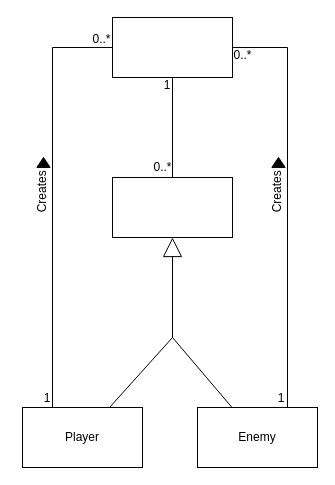
Some shapes in this 335 by 485 pixel diagram are drawn without their labels. Here are the shapes that lost their labels. From the top down, the centre of each, then its label:
At (x=172, y=47): "Attack".
At (x=172, y=207): "Vulnerable".
